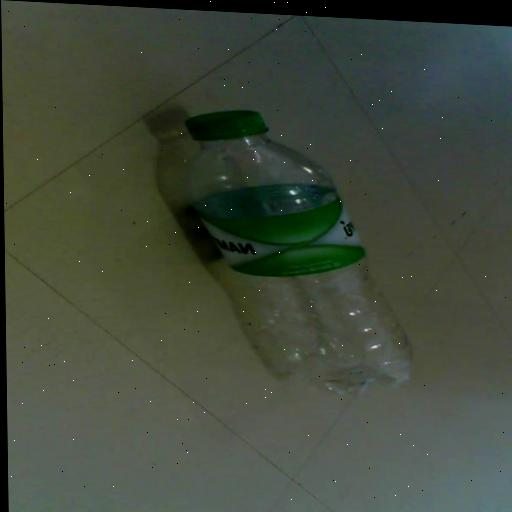bottle: (154, 94, 453, 416)
